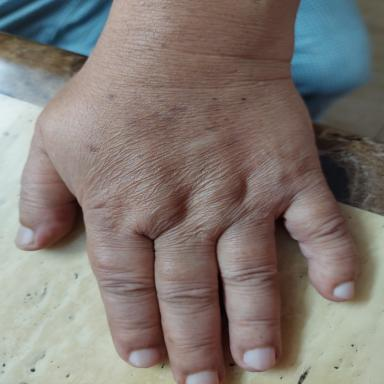normal skin: (15, 0, 356, 384)
